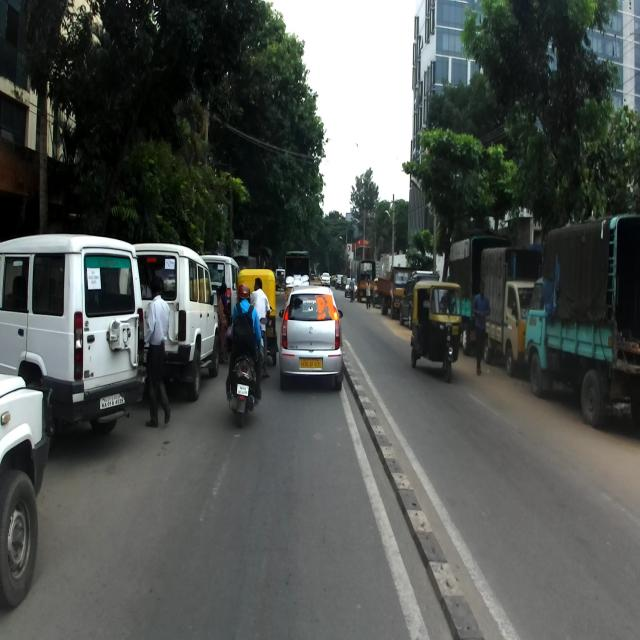Car: (320, 272, 331, 286)
Car_Maruti-Suzuki: (344, 276, 358, 298)
Car_TATA: (0, 232, 147, 443), (132, 243, 218, 400), (0, 372, 54, 608), (278, 285, 342, 391), (199, 254, 240, 352)
autorickshaw: (410, 280, 464, 383), (237, 268, 278, 366), (340, 274, 348, 290)
scooter: (225, 318, 268, 428)
truck: (526, 214, 640, 420), (480, 249, 538, 373), (375, 266, 413, 318)
